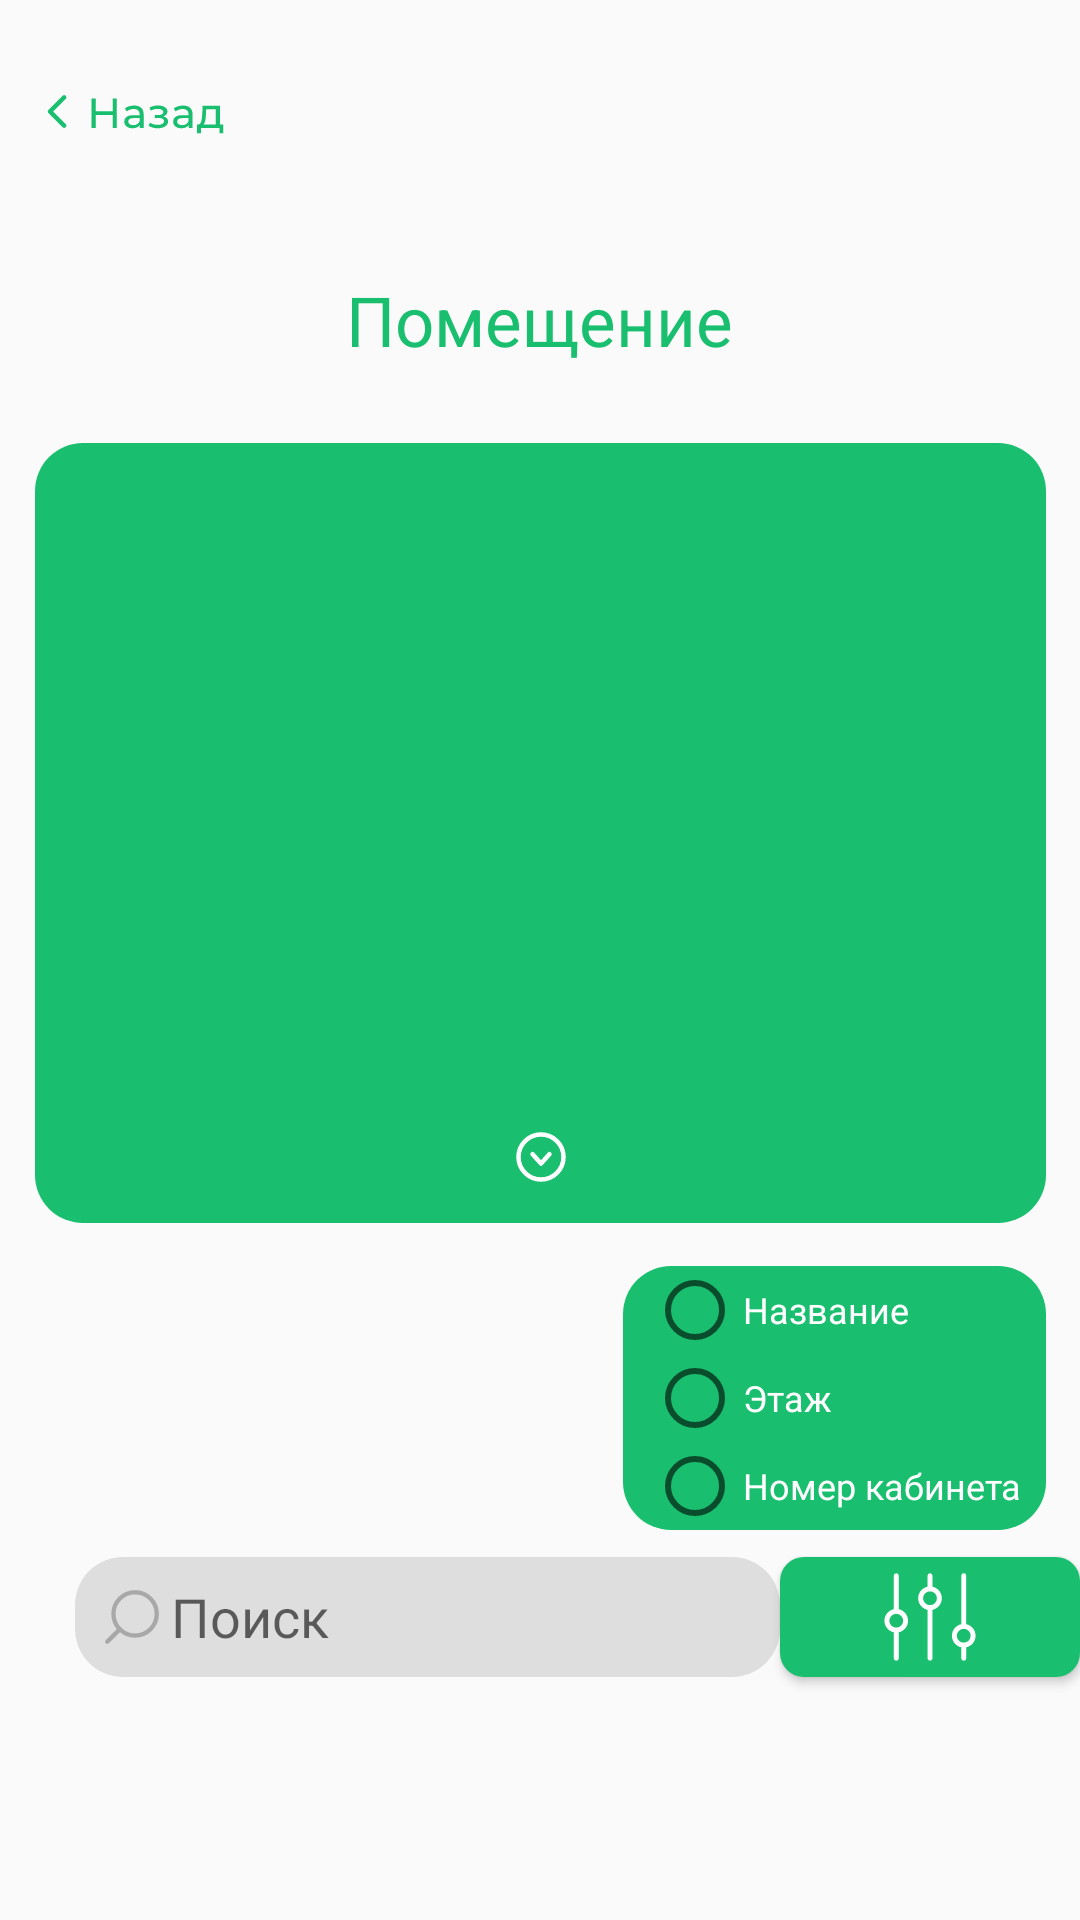

Point at icon controls on the screen. Image size 1080 x 1920, points as (x=x, y=y).
caretcircledown: (x=541, y=1157)
magnifyingglass: (x=132, y=1617)
sliders: (x=930, y=1617)
